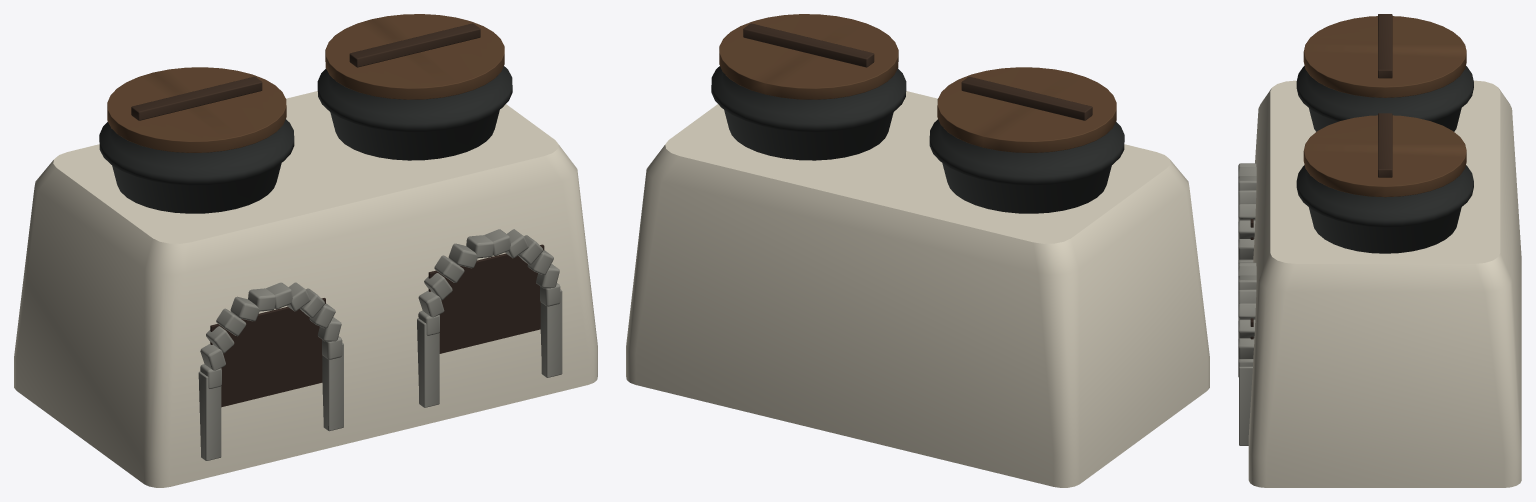
File: kominka-kamado-01.glb
3 views of the same model, side by side, from view 1: azimuth 30°, elevation 25°; view 2: azimuth 150°, elevation 25°; view 3: azimuth 270°, elevation 25° (orthographic). The views are drawn at different scales.
Visible parts, largest first — view 1: kominka-kamado-01; view 2: kominka-kamado-01; view 3: kominka-kamado-01.
Part boxes in pixels (box(x1,y1,x2,y2)): kominka-kamado-01: box(14, 14, 597, 487); kominka-kamado-01: box(626, 14, 1209, 487); kominka-kamado-01: box(1238, 14, 1521, 487).
Bounding box in the file's own units: 1.2 × 0.8 × 0.7.
